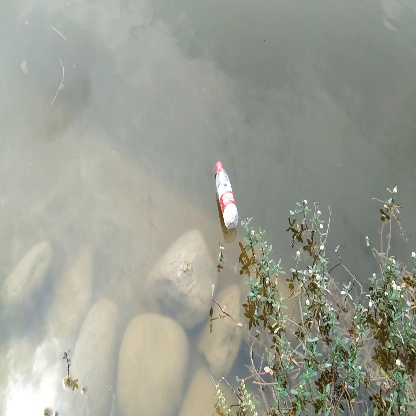bottle: (211, 159, 246, 231)
